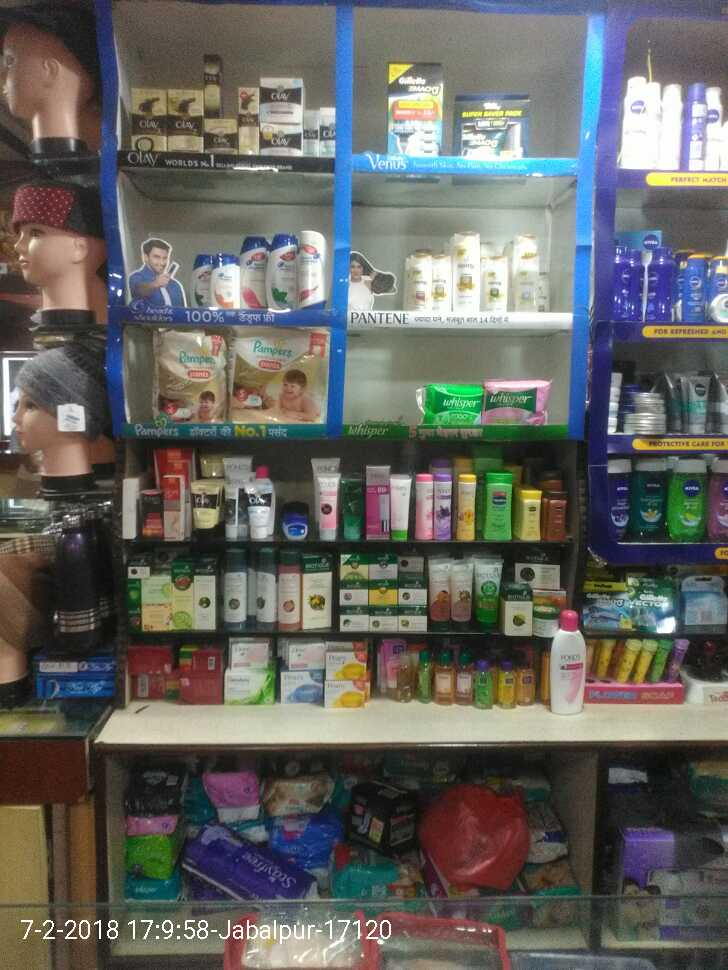gillete: (387, 62, 442, 155), (456, 93, 530, 157)
